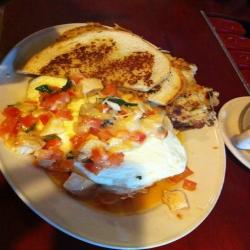bread: (25, 22, 190, 113)
